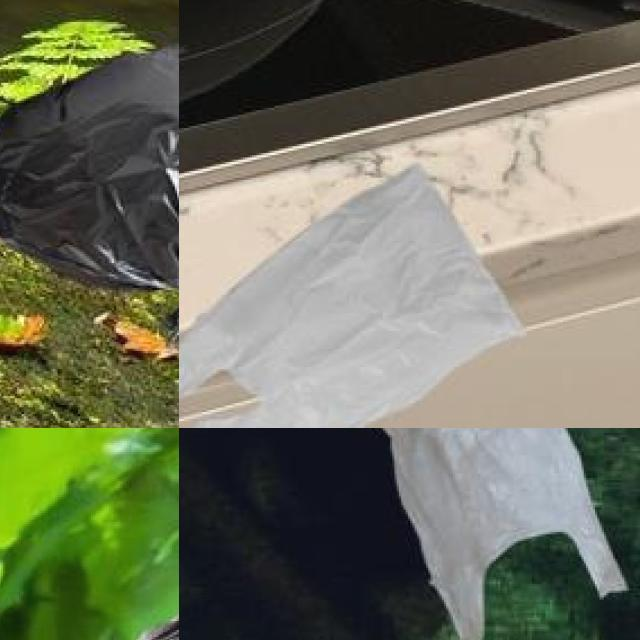waste: (179, 177, 512, 428), (374, 428, 633, 639), (0, 36, 179, 334), (49, 563, 179, 640)
